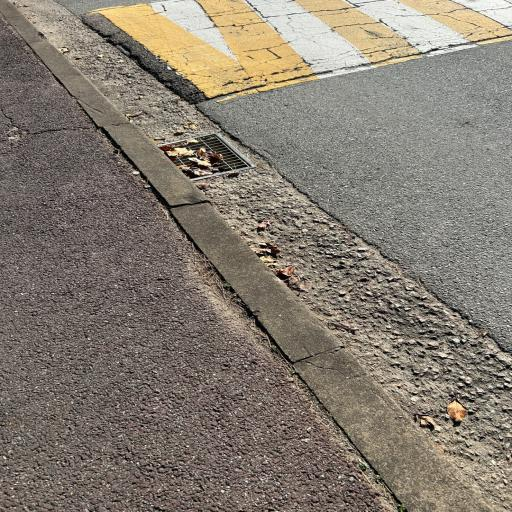debris: (195, 145, 223, 165), (165, 144, 191, 157), (178, 162, 189, 167), (199, 171, 201, 175)
drain: (162, 136, 250, 178)
